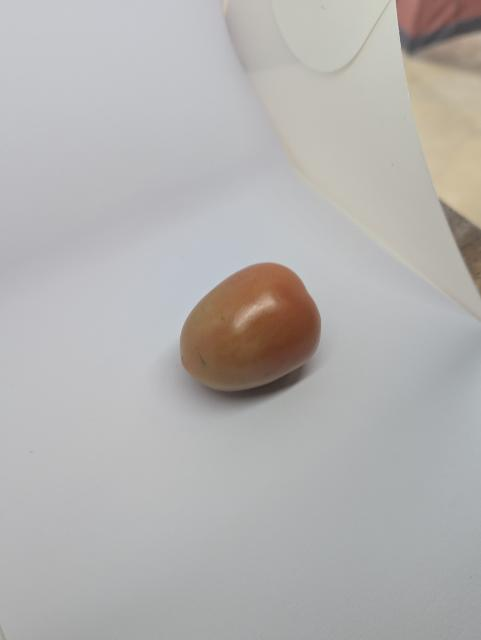turning: (176, 258, 334, 394)
